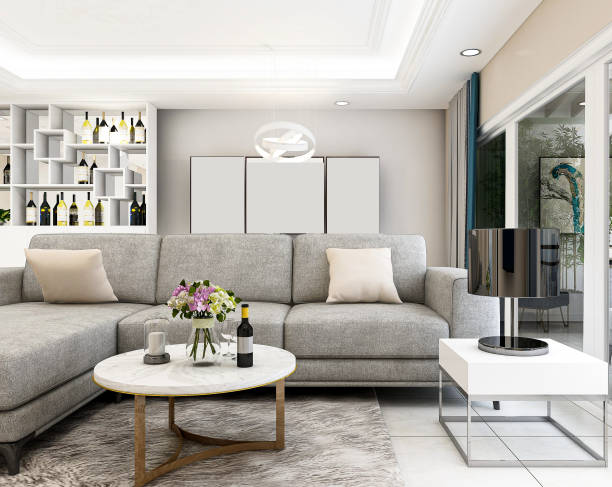flower vase: (167, 273, 240, 364)
sofa: (0, 230, 525, 476)
table: (94, 337, 298, 487), (435, 334, 612, 473)
table lamp: (465, 224, 564, 358)
wall art: (186, 152, 383, 233), (536, 152, 584, 299)
